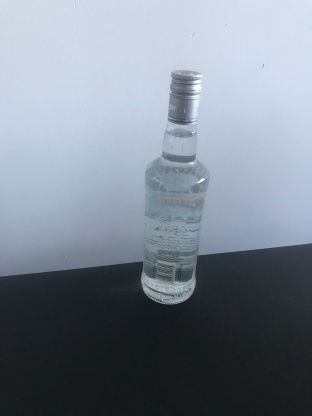nakretka: (165, 67, 204, 127)
